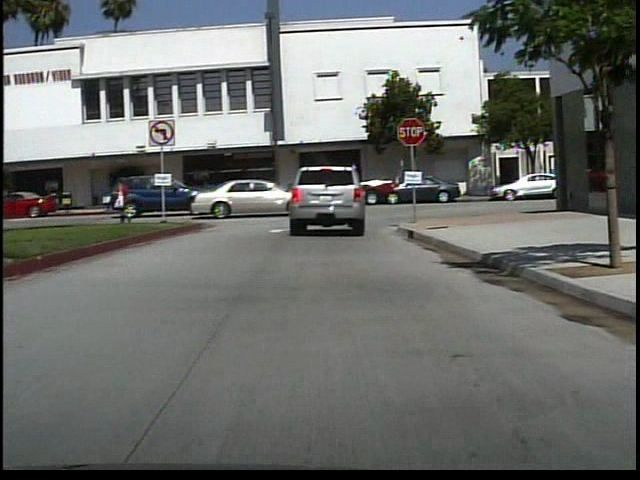person: (315, 166, 343, 230), (109, 174, 142, 226), (200, 173, 218, 206)
